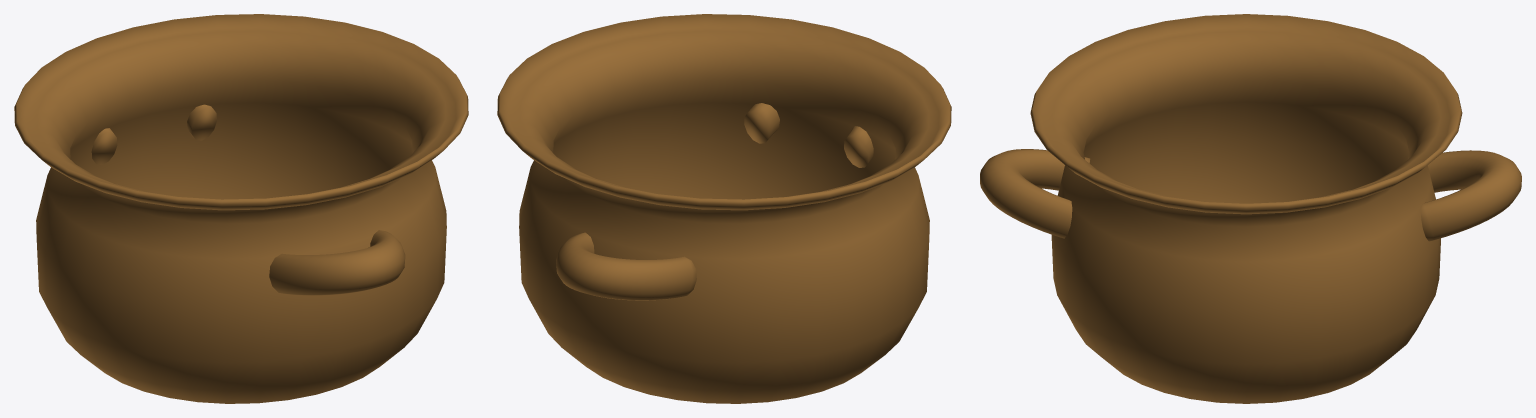
File: Marmite.fbx
3 renders of one model, left to right at view 1: azimuth 30°, elevation 25°; view 2: azimuth 150°, elevation 25°; view 3: azimuth 270°, elevation 25°, orthographic.
Visible parts, largest first — view 1: Sphere.003, Torus.002, Torus.001; view 2: Sphere.003, Torus.001, Torus.002; view 3: Sphere.003, Torus.001, Torus.002.
Part boxes in pixels (bbox=[...]): Sphere.003: bbox=[14, 14, 468, 403]; Torus.002: bbox=[269, 230, 405, 295]; Torus.001: bbox=[91, 104, 216, 164]; Sphere.003: bbox=[497, 14, 951, 403]; Torus.001: bbox=[556, 232, 696, 300]; Torus.002: bbox=[744, 103, 873, 167]; Sphere.003: bbox=[1030, 14, 1462, 403]; Torus.001: bbox=[1421, 150, 1521, 241]; Torus.002: bbox=[980, 149, 1090, 238].
Size of the model in its own units: 247 by 149 by 294.
